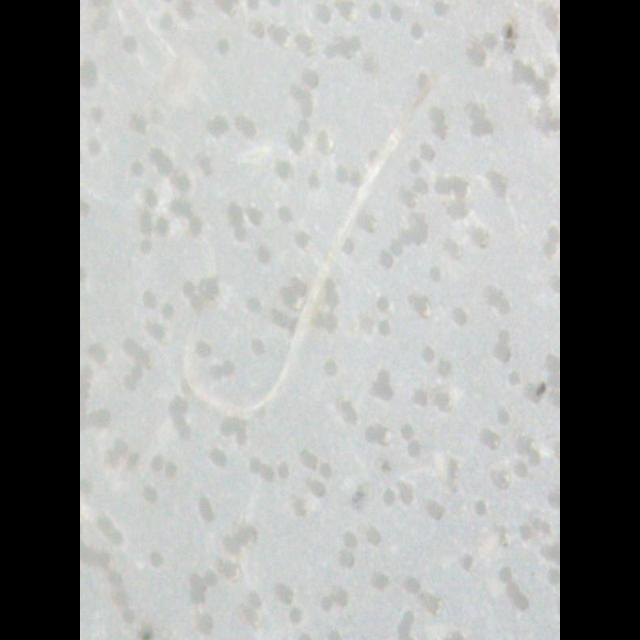Fibre: (178, 79, 458, 434)
